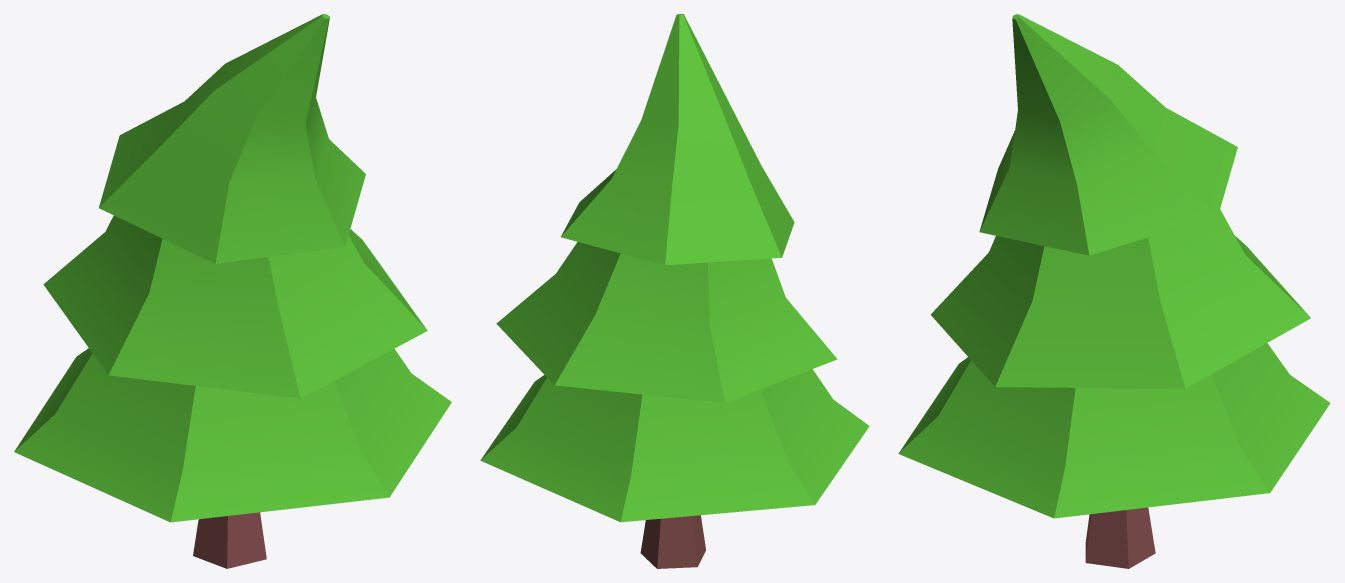
Rendered from Sapin.fbx.
The picture shows the model from 3 angles, left to right: view 1: azimuth 30°, elevation 25°; view 2: azimuth 150°, elevation 25°; view 3: azimuth 270°, elevation 25°; orthographic projection. The views are drawn at different scales.
Visible parts, largest first — view 1: Cylindre; view 2: Cylindre; view 3: Cylindre.
Part boxes in pixels (x1,y1,x2,y2): Cylindre: (14, 14, 451, 568); Cylindre: (480, 14, 869, 568); Cylindre: (898, 14, 1330, 568).
Size of the model in its own units: 609 by 609 by 870.
